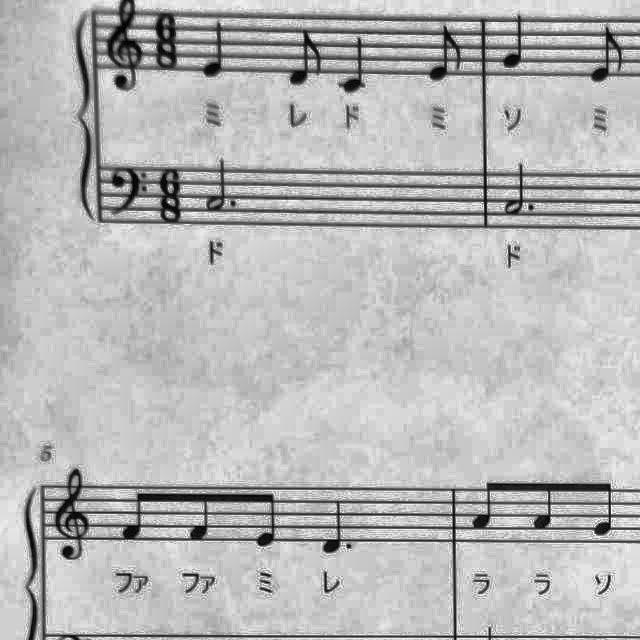Bass-clef: (105, 162, 155, 226)
Eighth-note: (420, 20, 468, 90), (586, 21, 632, 90), (282, 26, 326, 94), (250, 483, 290, 553), (116, 482, 154, 546), (468, 472, 504, 536), (528, 474, 564, 536), (182, 487, 218, 547), (586, 477, 618, 543)
Half-dot: (199, 151, 243, 217), (498, 158, 542, 222)
Quarter-dot: (318, 500, 360, 560)
Quarter-note: (195, 12, 235, 84), (334, 32, 374, 100), (496, 9, 536, 75)
Treble-clef: (49, 463, 99, 565), (102, 2, 152, 98)
